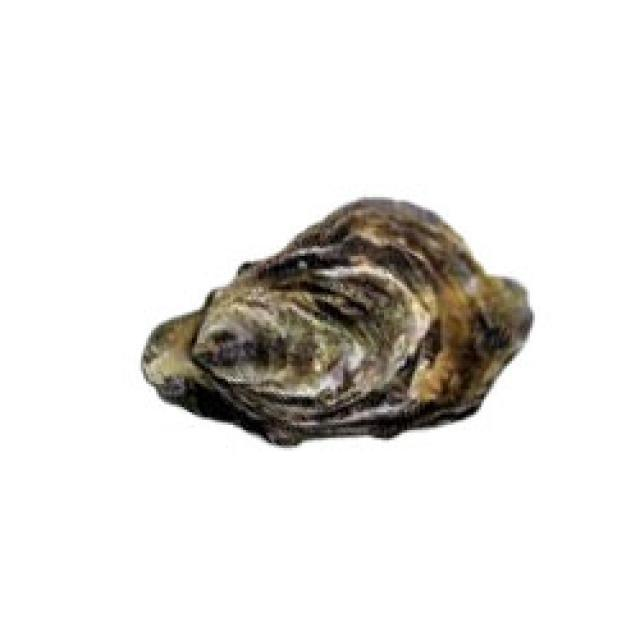Oyster- Indeterminate: (130, 188, 538, 456)
